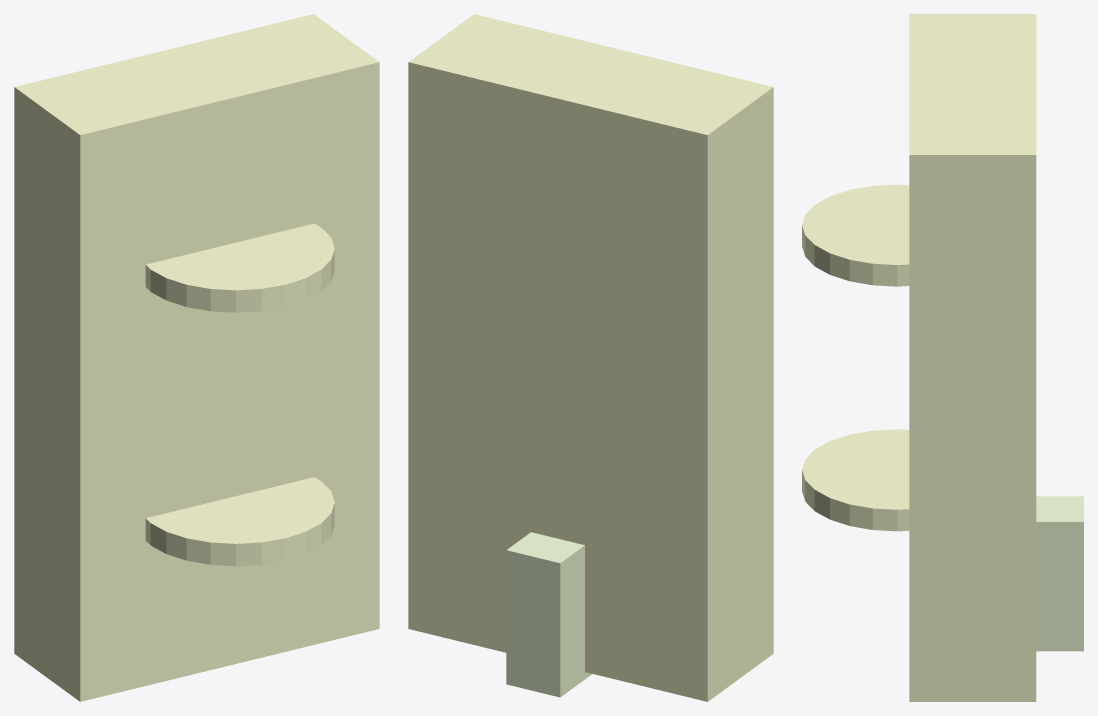
The model's file is signal_pedestrian_2_aspect.glb.
The picture shows the model from 3 angles, left to right: view 1: azimuth 30°, elevation 25°; view 2: azimuth 150°, elevation 25°; view 3: azimuth 270°, elevation 25°; orthographic projection. The views are drawn at different scales.
Parts seen in each view (by area): view 1: housing, lens_ped_red, lens_ped_white; view 2: housing, bracket; view 3: housing, lens_ped_red, lens_ped_white, bracket.
Boxes of the visible parts, x1,y1,x2,y2 form: housing: (14, 14, 379, 701); lens_ped_red: (145, 223, 334, 312); lens_ped_white: (145, 477, 334, 566); housing: (408, 14, 773, 701); bracket: (506, 532, 591, 697); housing: (909, 14, 1036, 701); lens_ped_red: (802, 184, 909, 286); lens_ped_white: (802, 429, 909, 531); bracket: (1036, 496, 1083, 651).
Bounding box in the file's own units: 0.42 × 0.77 × 0.355.
